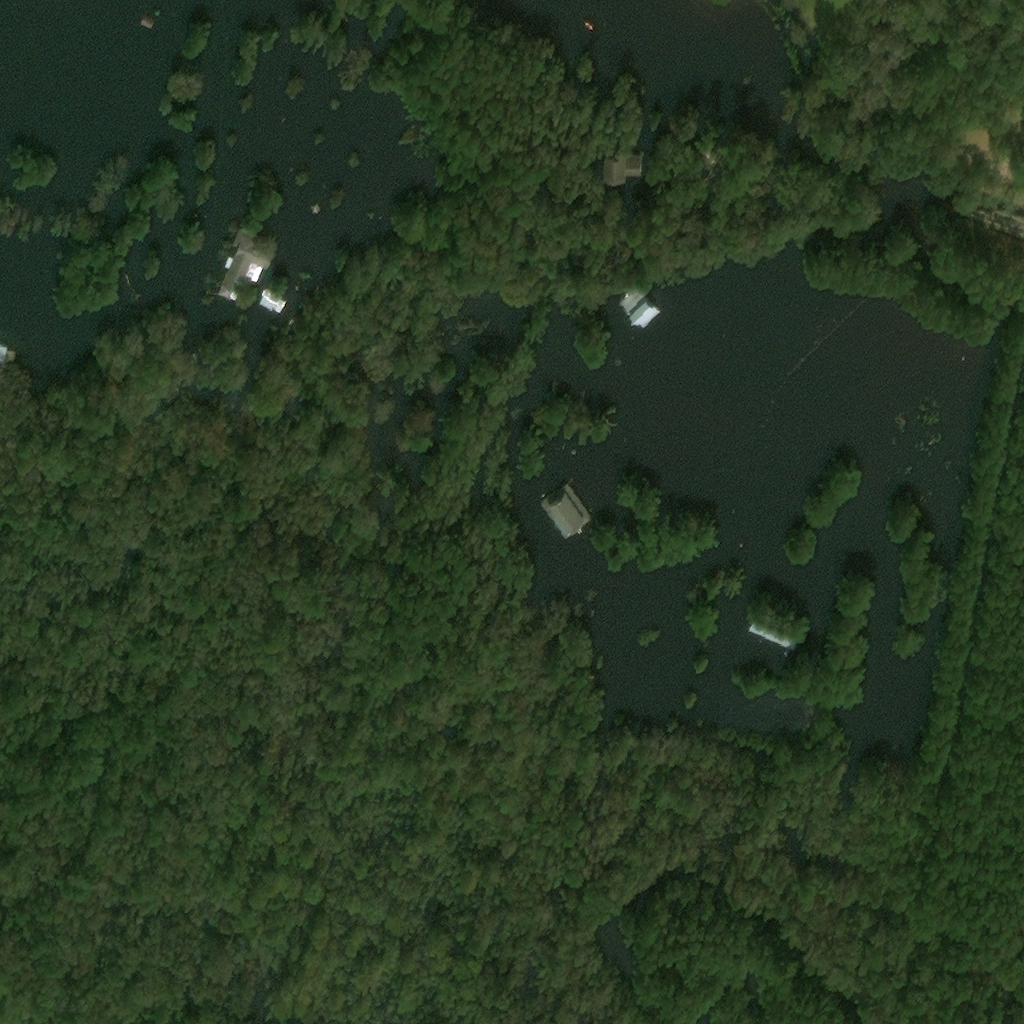major_damage: (220, 229, 278, 299), (540, 483, 593, 539), (748, 613, 799, 651), (621, 289, 662, 331), (602, 144, 644, 178), (257, 290, 289, 315), (0, 346, 17, 382), (552, 381, 563, 393)
